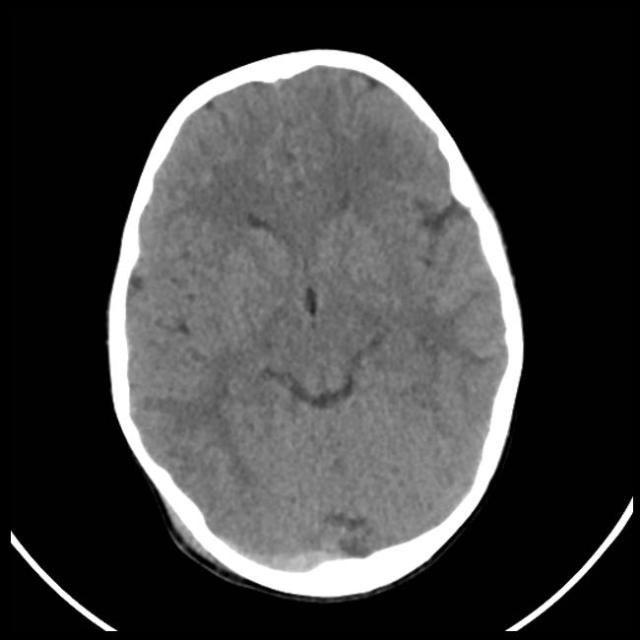lesion: (106, 53, 524, 590)
